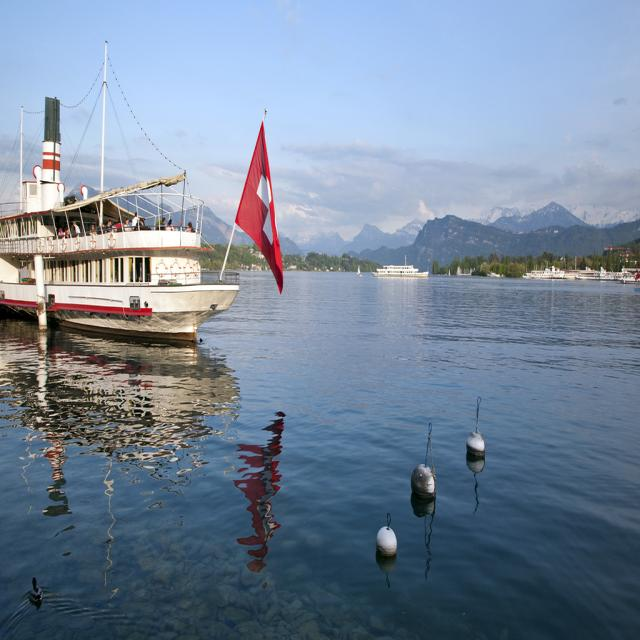Boat: (9, 41, 255, 359), (524, 263, 640, 283), (372, 254, 430, 278)
